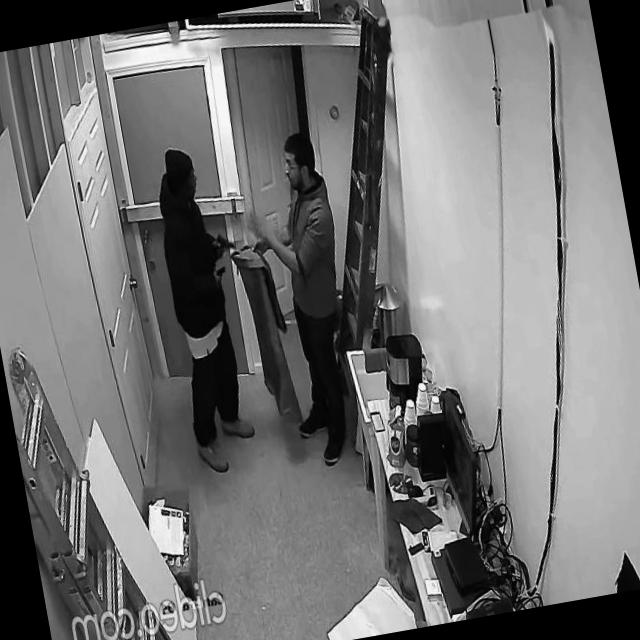gun: (212, 229, 238, 258)
person: (256, 128, 376, 472)
person with a gun: (142, 135, 277, 478)
